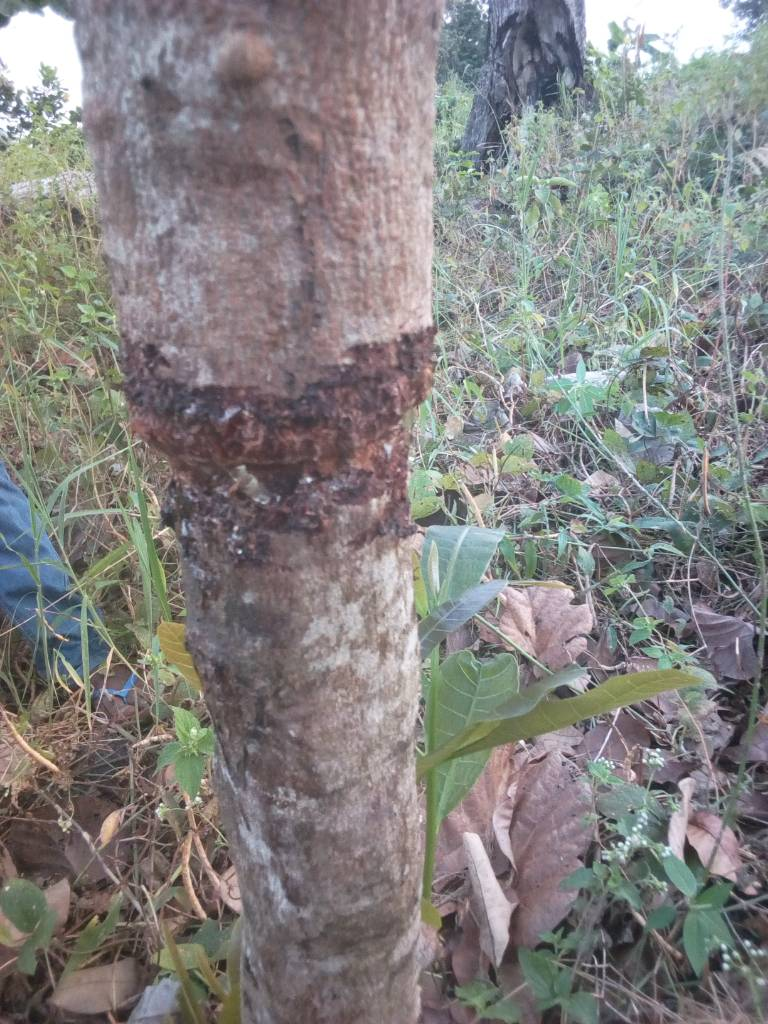ploceadorus ferrugineus: (102, 320, 482, 582)
